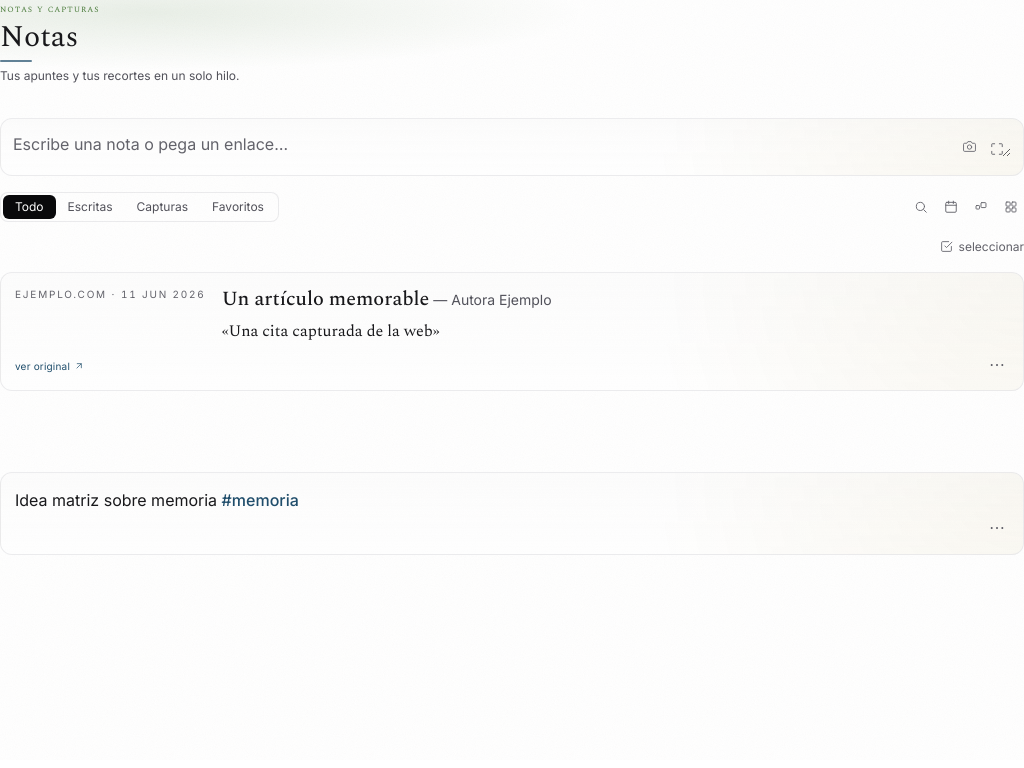
Scenario: <NotasFeedView /> › triage por menú ⋯: «→ Momento» abre el modal de promoción prellenado
The width and height of the screenshot is (1024, 768).
Expected: the text "«Una cita capturada de la web»" is shown, [222,318,440,342]
Click the button named "Acciones del recorte": (997,366) [985,356,1009,376]
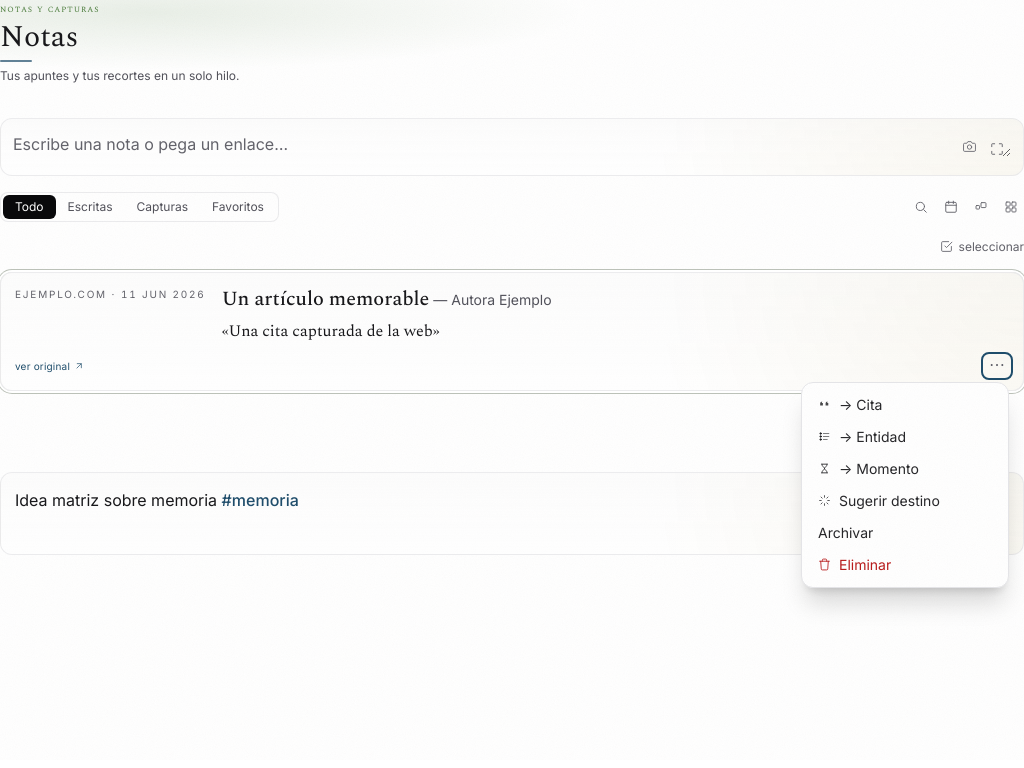
Click the menu item "→ Momento": (905,468) [808,452,1002,484]
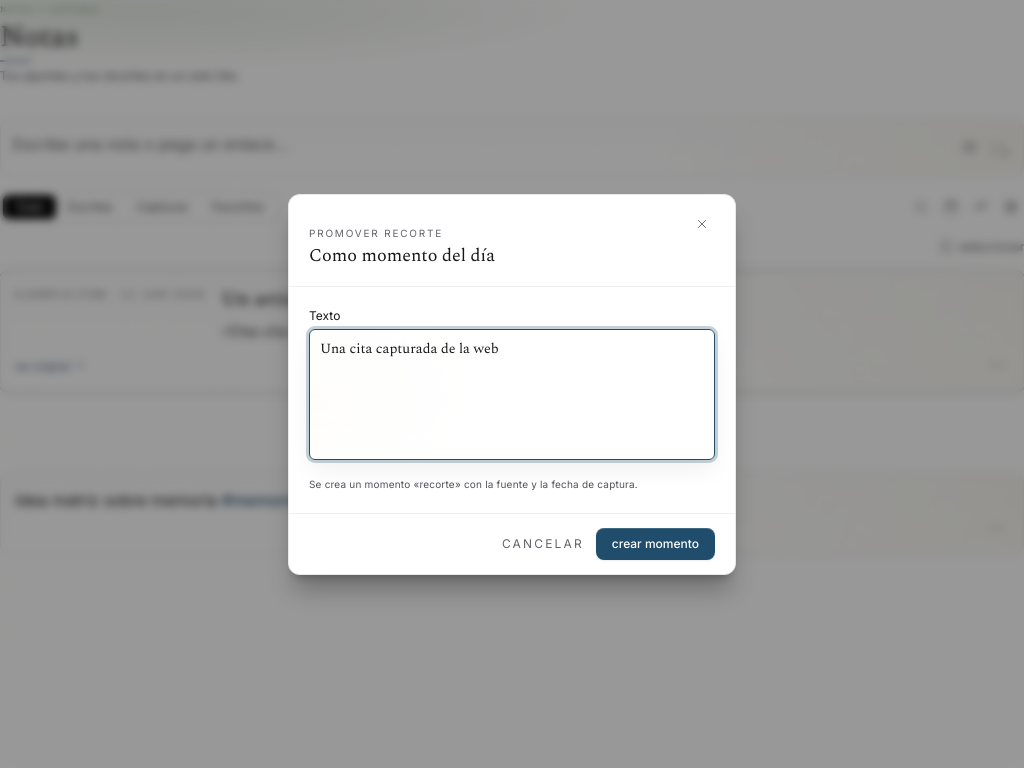
Result: the dialog named "Promover a momento" is shown at [288,194,736,574]
